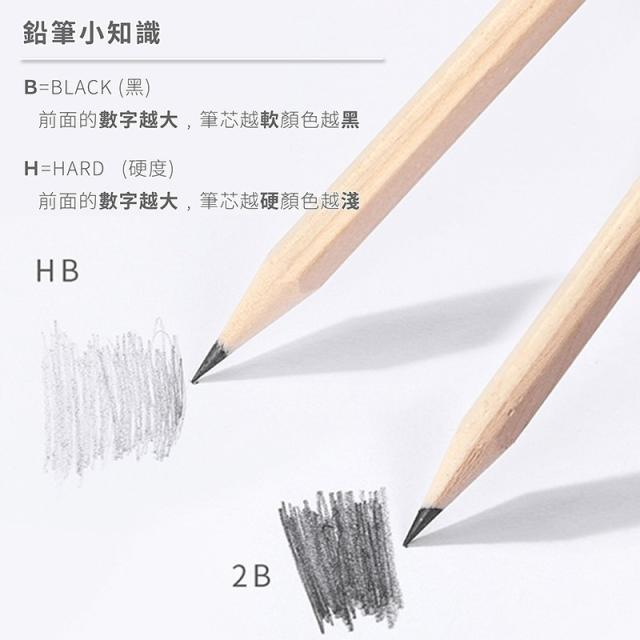pencil: (168, 0, 594, 402), (386, 172, 640, 574)
